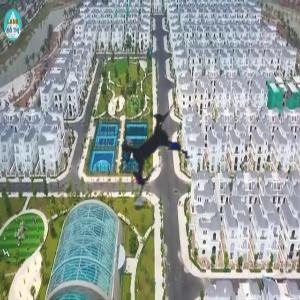drone: (74, 74, 233, 233)
